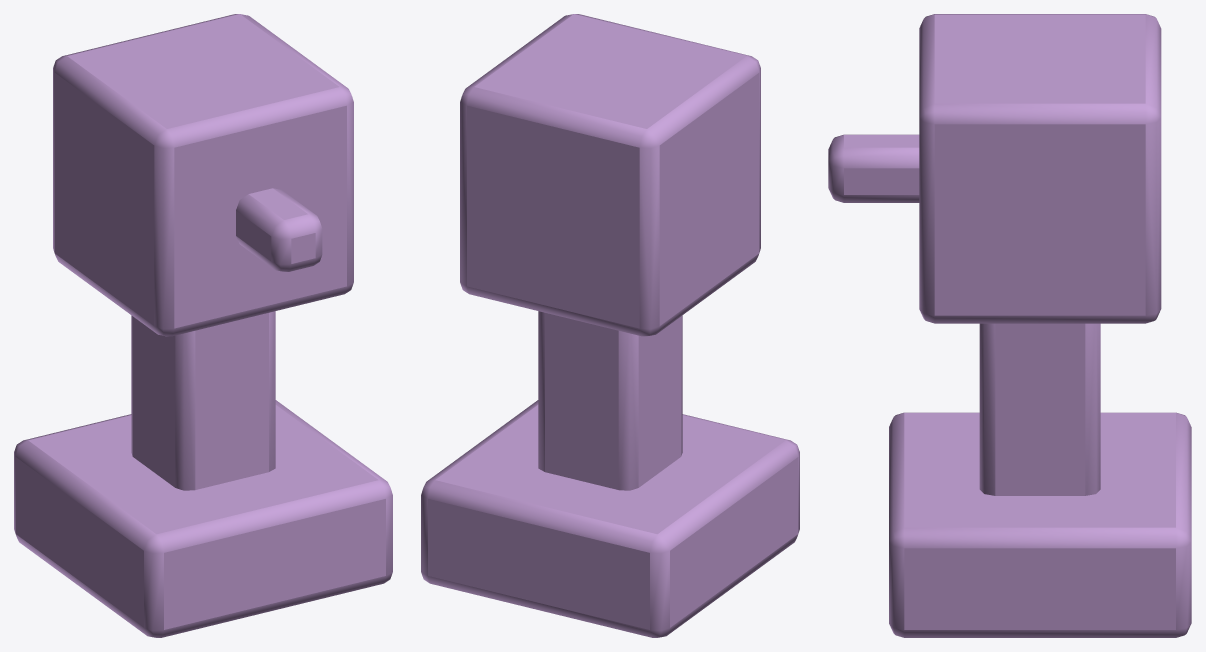
File: immobileEnemy.obj
3 renders of one model, left to right at view 1: azimuth 30°, elevation 25°; view 2: azimuth 150°, elevation 25°; view 3: azimuth 270°, elevation 25°, orthographic. The views are drawn at different scales.
Parts seen in each view (by area): view 1: 立方体.004; view 2: 立方体.004; view 3: 立方体.004.
Part boxes in pixels (left/top/right/bottom): 立方体.004: left=14, top=14, right=392, bottom=637; 立方体.004: left=421, top=14, right=799, bottom=637; 立方体.004: left=828, top=14, right=1191, bottom=637.
Size of the model in its own units: 2 by 3.8 by 2.4.
Materials: 1 (1 with a texture image).
